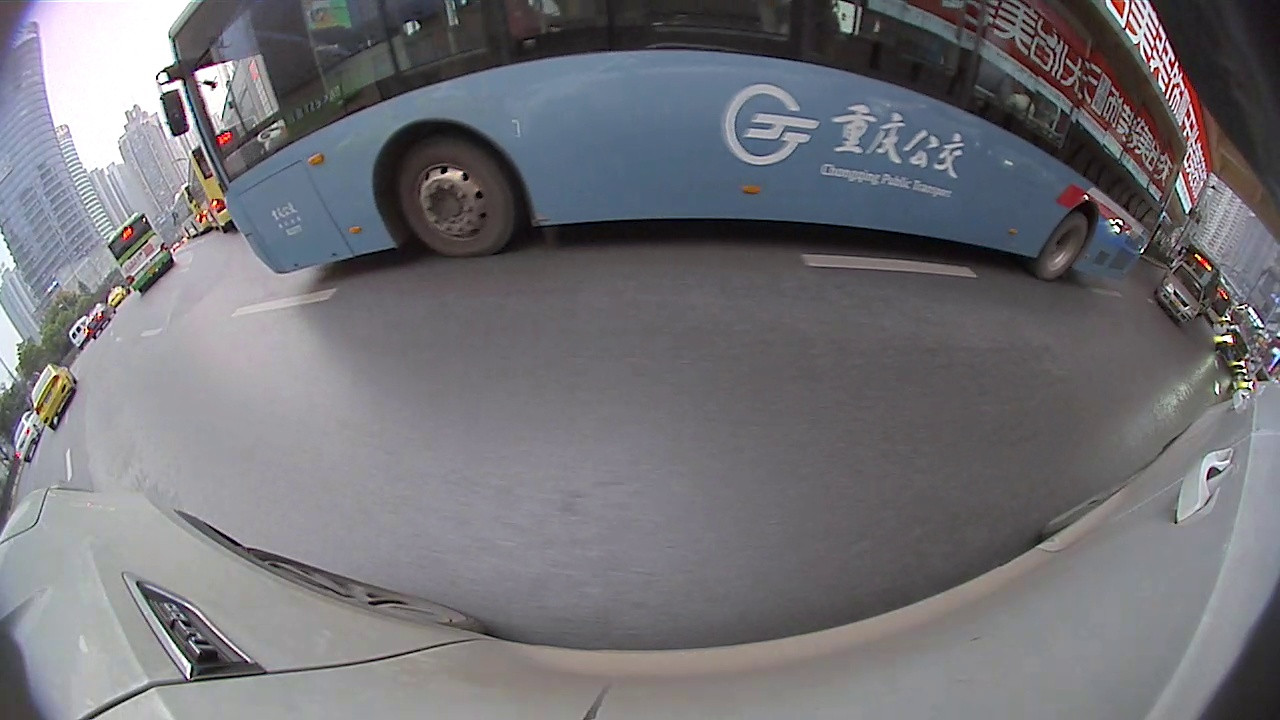car: (801, 70, 1063, 287), (43, 210, 170, 335), (1096, 268, 1183, 362), (1205, 417, 1271, 516)
front: (1020, 246, 1057, 287), (76, 297, 105, 332)
rear: (896, 196, 952, 259), (58, 309, 81, 336)
